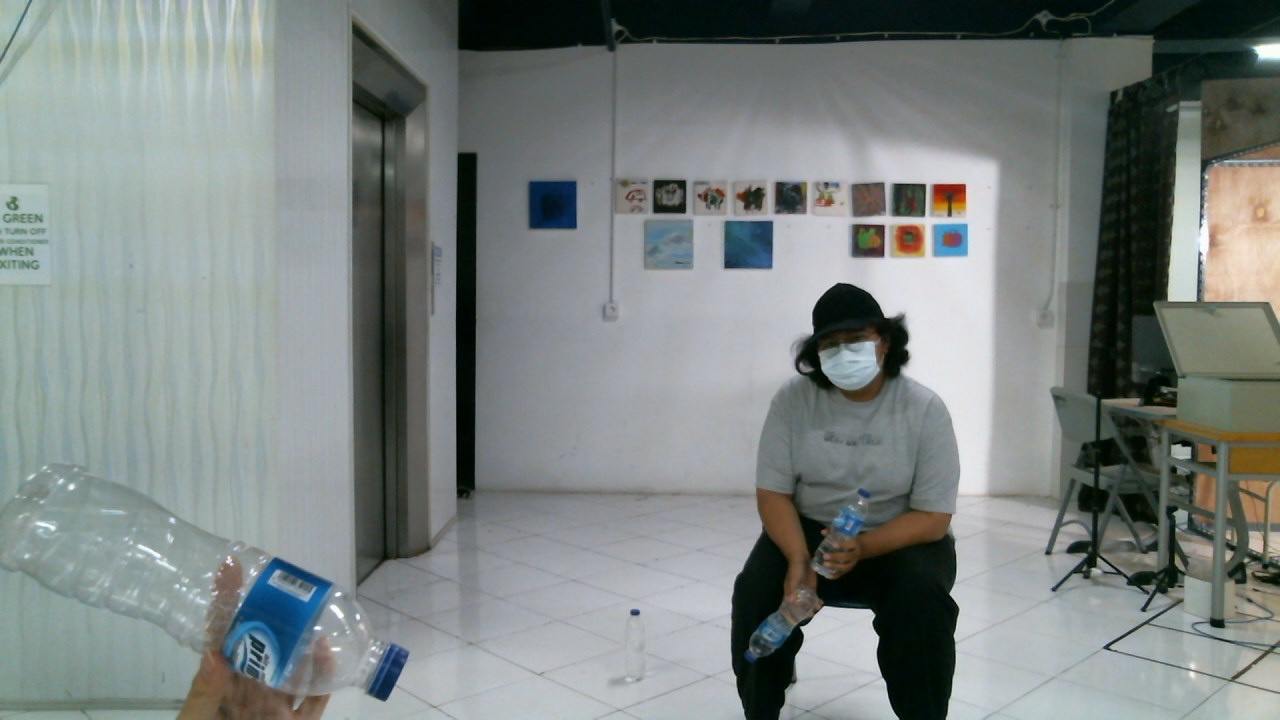Bottle: (4, 462, 413, 700), (808, 490, 873, 580)
